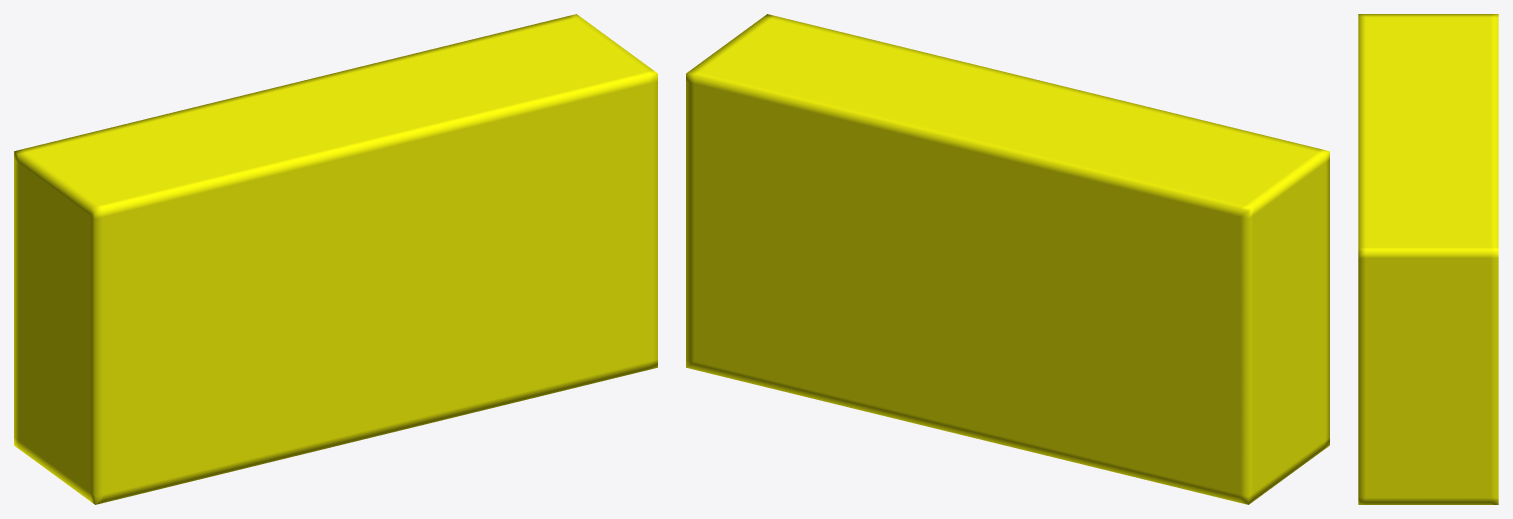
File: ECM_box.fbx
3 views of the same model, side by side, from view 1: azimuth 30°, elevation 25°; view 2: azimuth 150°, elevation 25°; view 3: azimuth 270°, elevation 25° (orthographic). The views are drawn at different scales.
Parts seen in each view (by area): view 1: ECM_box; view 2: ECM_box; view 3: ECM_box.
Part boxes in pixels (bbox=[...]): ECM_box: bbox=[14, 14, 657, 504]; ECM_box: bbox=[686, 14, 1329, 504]; ECM_box: bbox=[1358, 14, 1498, 504].
Size of the model in its own units: 2000 by 1000 by 500.
